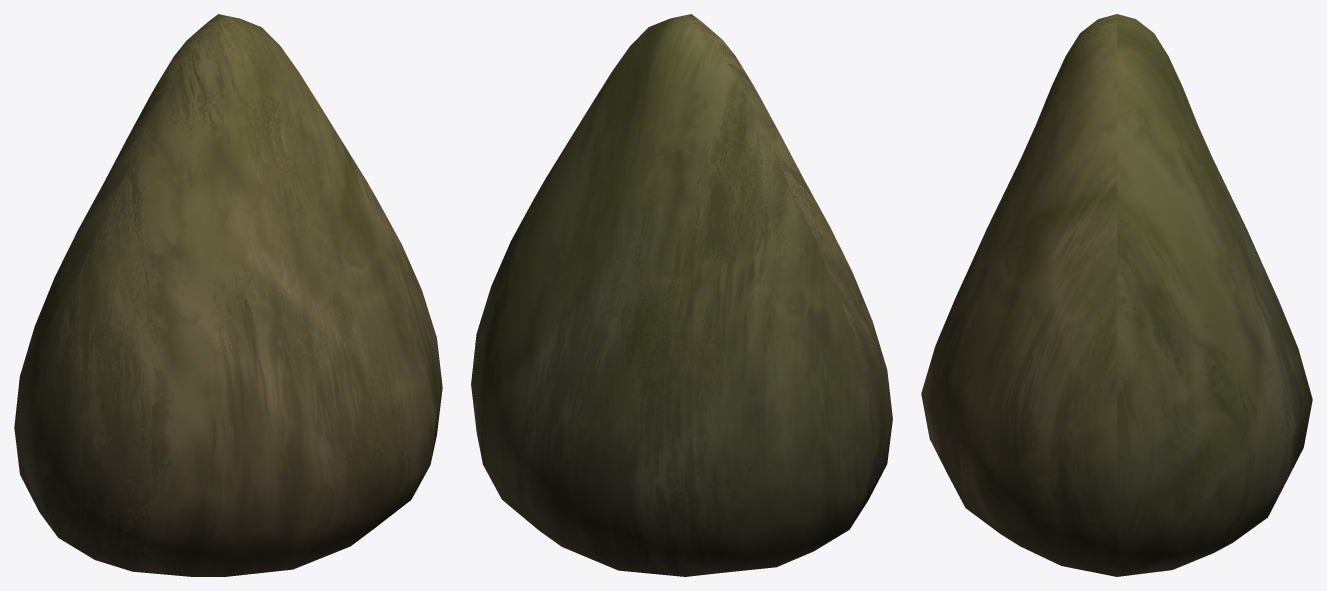
The model's file is Seed01.fbx.
3 renders of one model, left to right at view 1: azimuth 30°, elevation 25°; view 2: azimuth 150°, elevation 25°; view 3: azimuth 270°, elevation 25°, orthographic. The views are drawn at different scales.
Visible parts, largest first — view 1: pCube2; view 2: pCube2; view 3: pCube2.
Part boxes in pixels (x1,y1,x2,y2): pCube2: (14, 14, 442, 576); pCube2: (471, 14, 892, 576); pCube2: (921, 14, 1312, 576).
Bounding box in the file's own units: 1.49 × 1.97 × 1.34.
